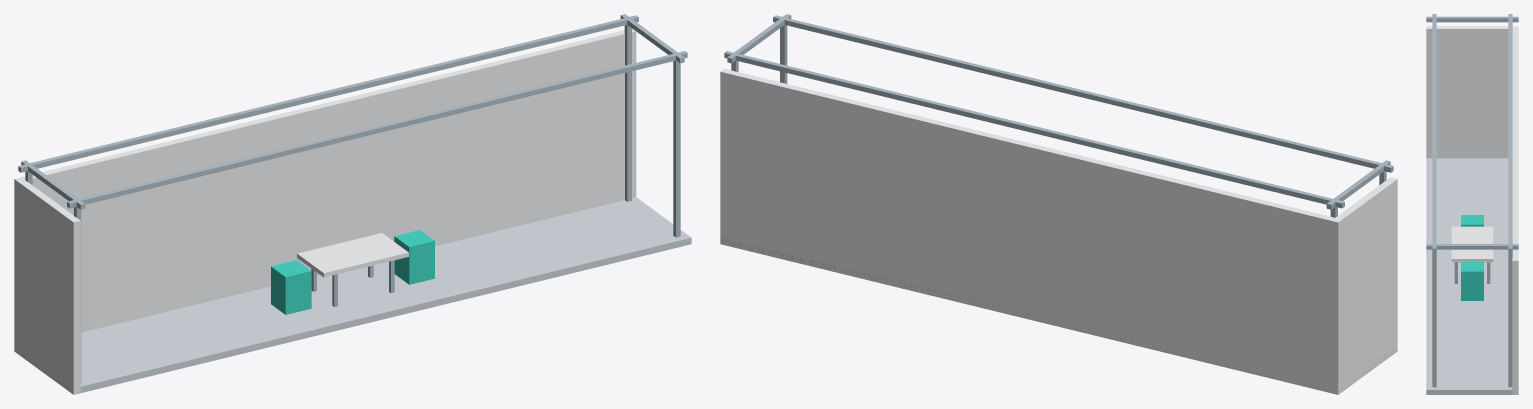
The picture shows the model from 3 angles, left to right: view 1: azimuth 30°, elevation 25°; view 2: azimuth 150°, elevation 25°; view 3: azimuth 270°, elevation 25°; orthographic projection. The views are drawn at different scales.
Visible parts, largest first — view 1: Exhibition Booth Concept; view 2: Exhibition Booth Concept; view 3: Exhibition Booth Concept.
Part boxes in pixels (x1,y1,x2,y2): Exhibition Booth Concept: (14, 14, 691, 394); Exhibition Booth Concept: (720, 14, 1397, 394); Exhibition Booth Concept: (1426, 14, 1518, 394).
Size of the model in its own units: 12 by 3.49 by 2.
